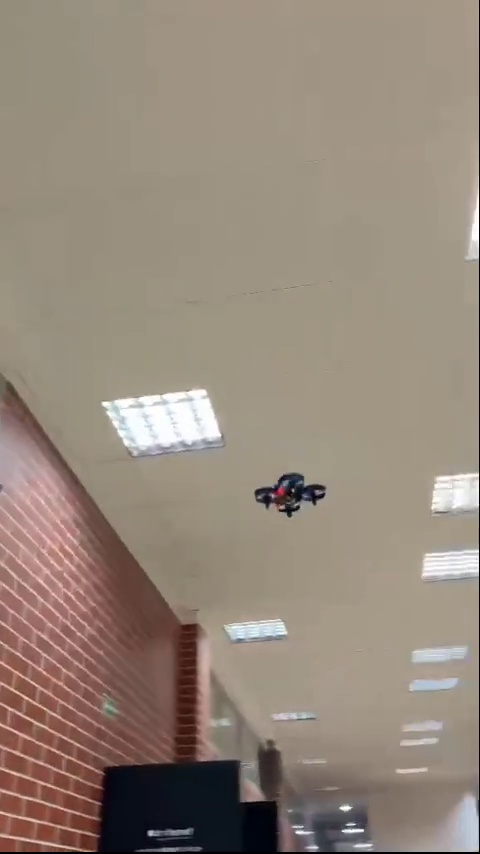drone: (252, 476, 328, 523)
